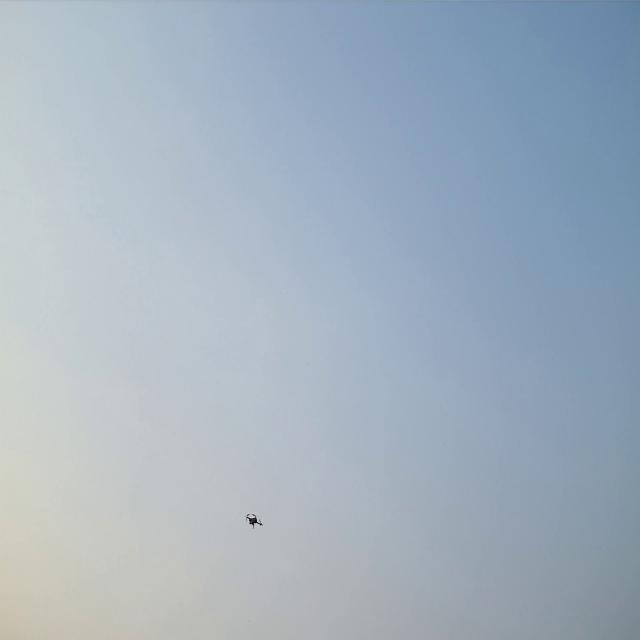UAV: (243, 513, 265, 531)
